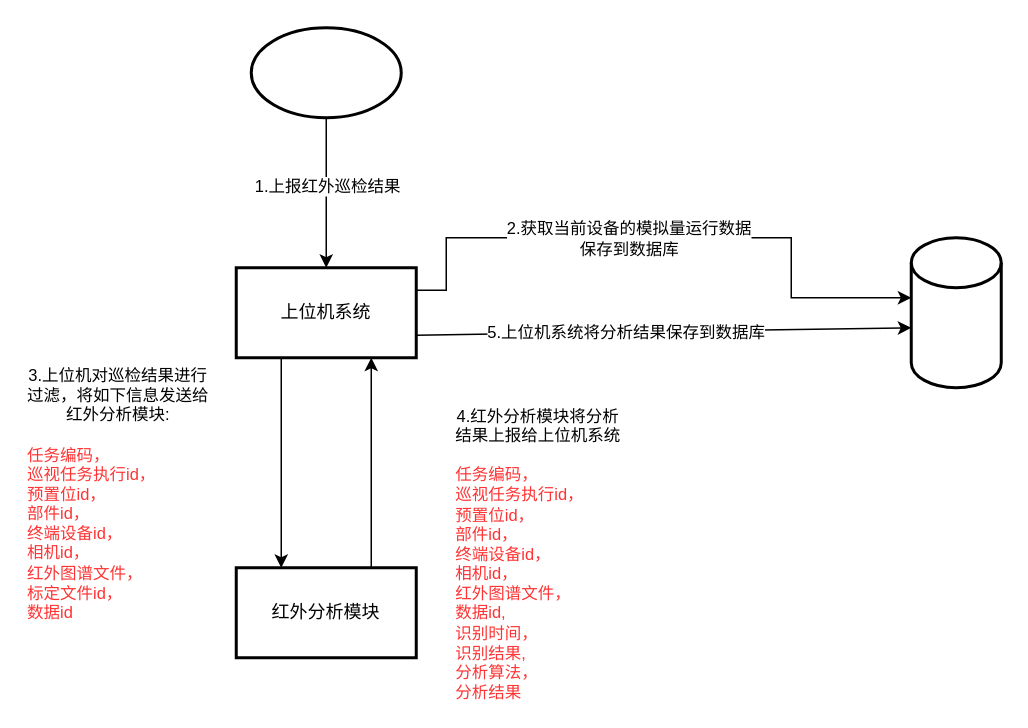
The diagram is 1028 pixels wide and 728 high, and some of its shapes have lost their labels. Each missing label, with the centre of its shape:
数据库: the point at 955,312
昌吉巡视主机: the point at 325,72
